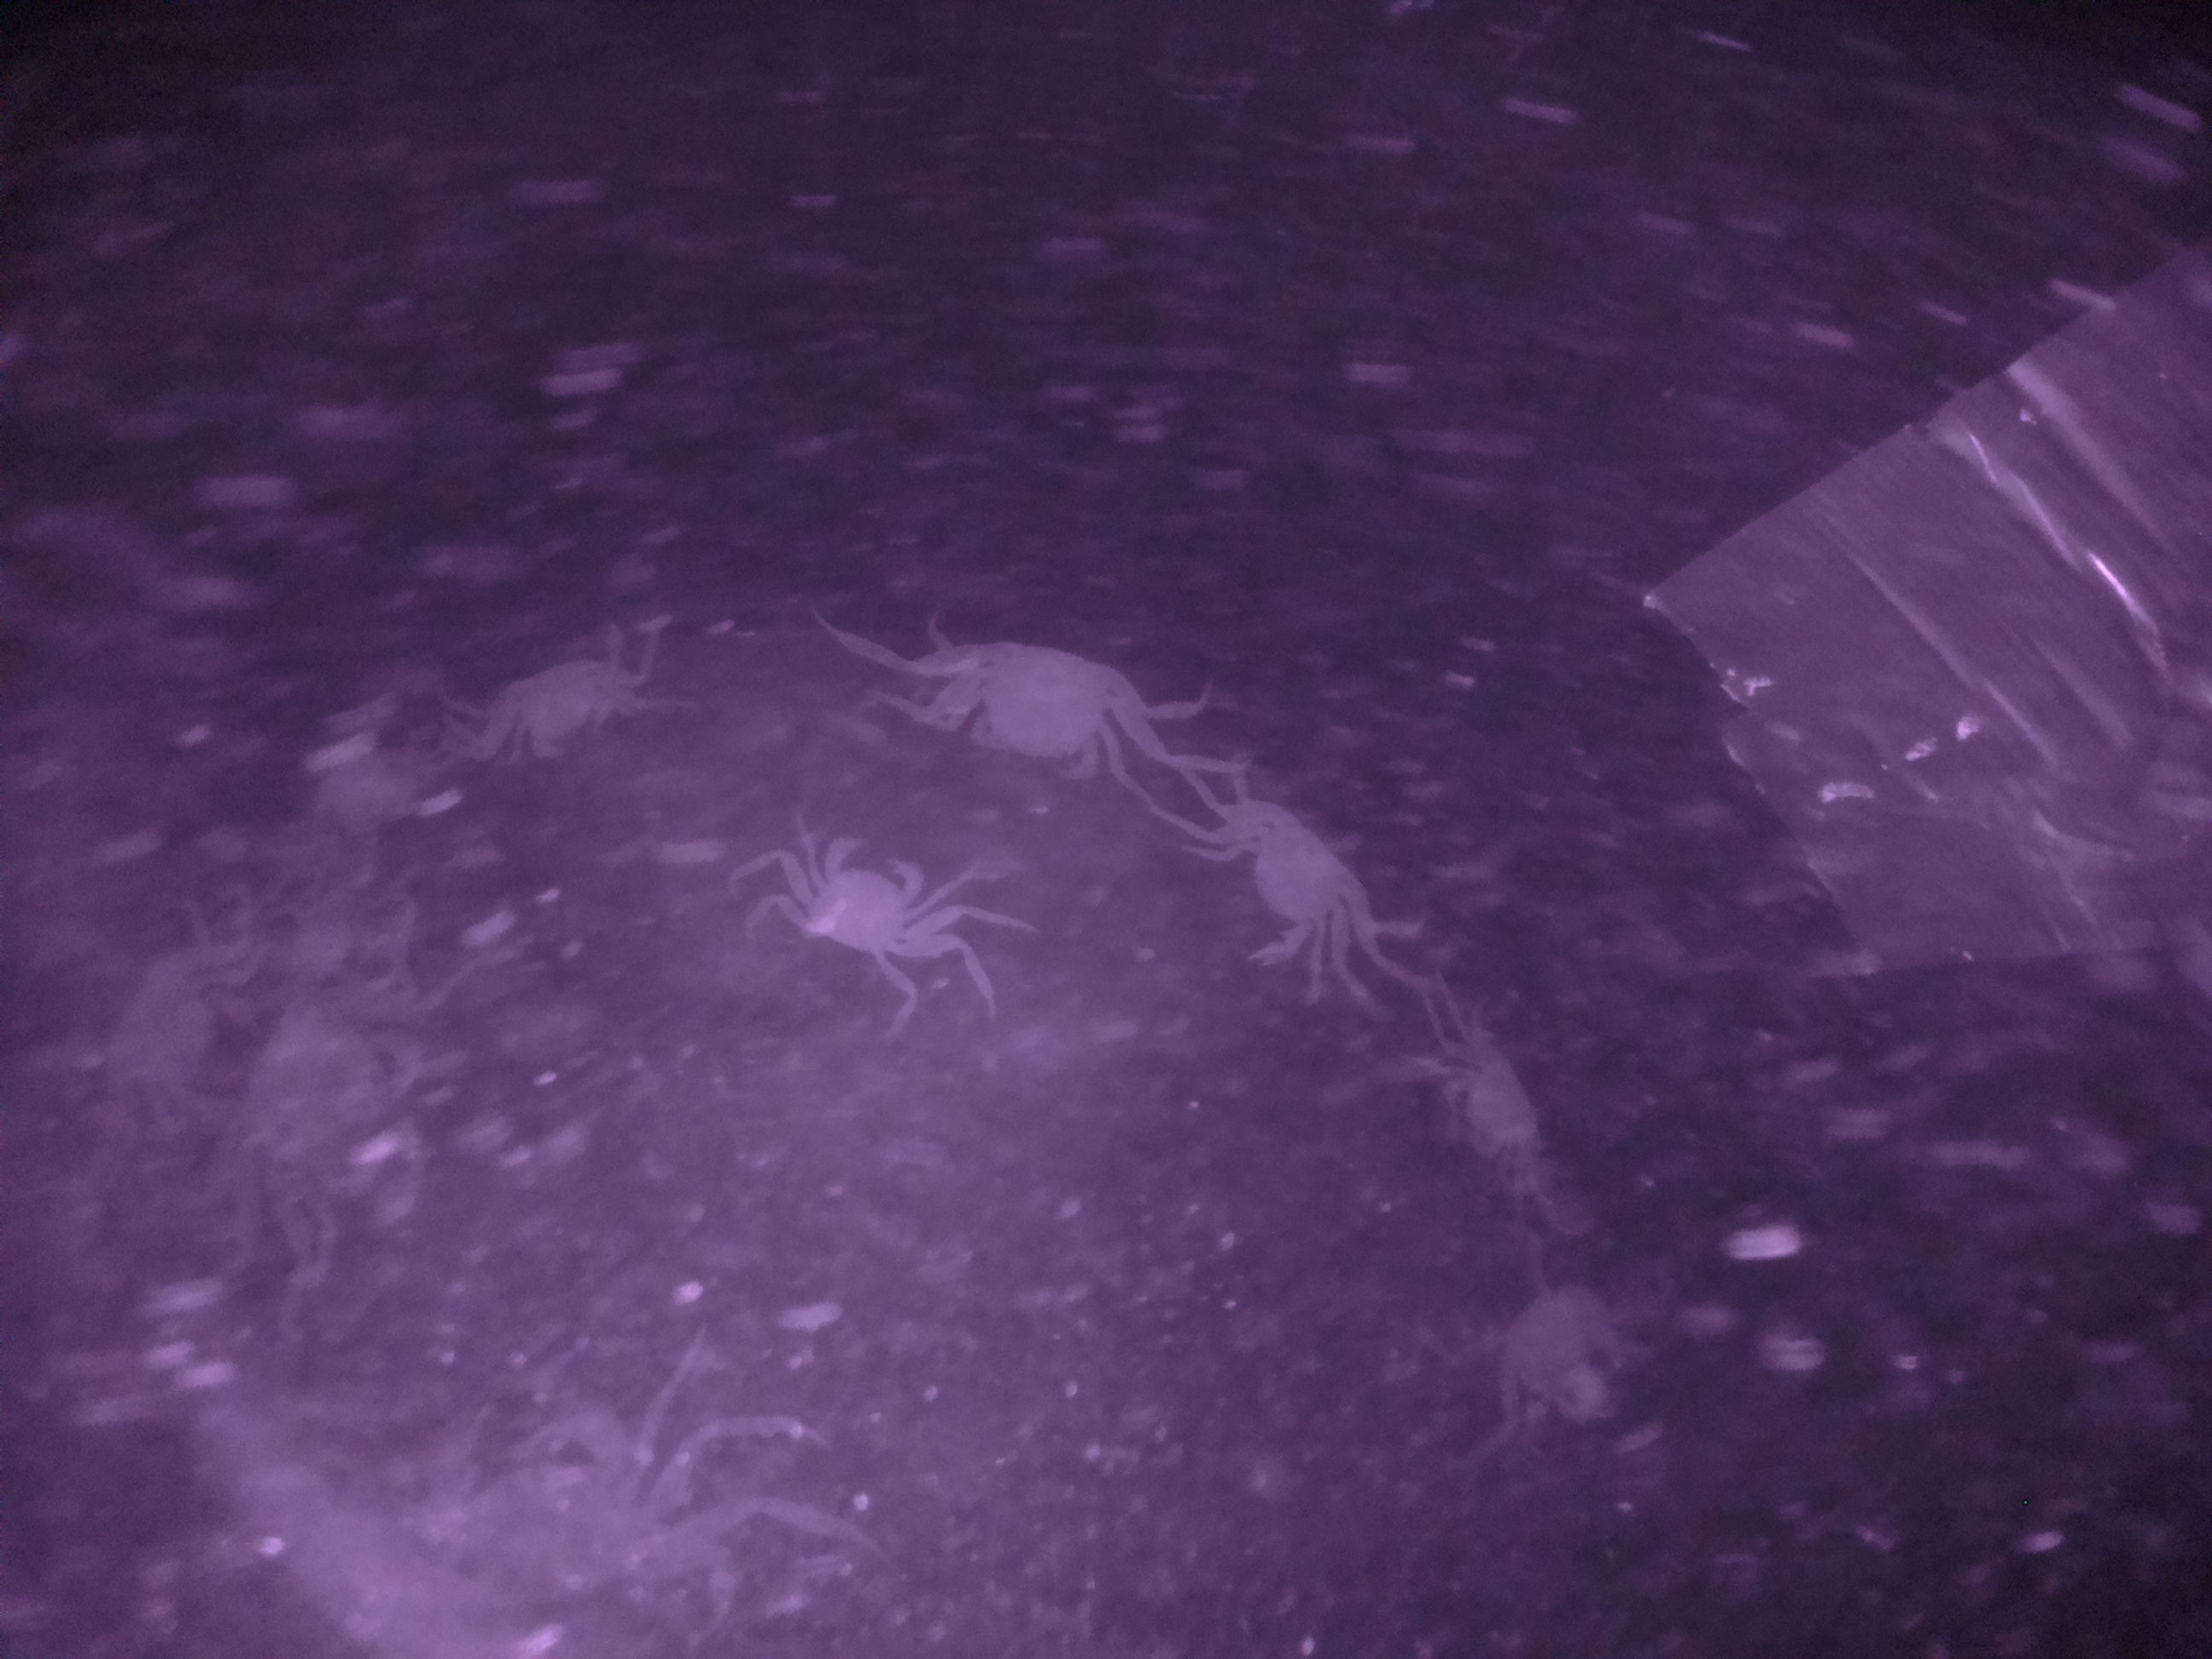Crab: (918, 627, 1153, 788), (1186, 781, 1388, 964), (770, 829, 951, 971)
